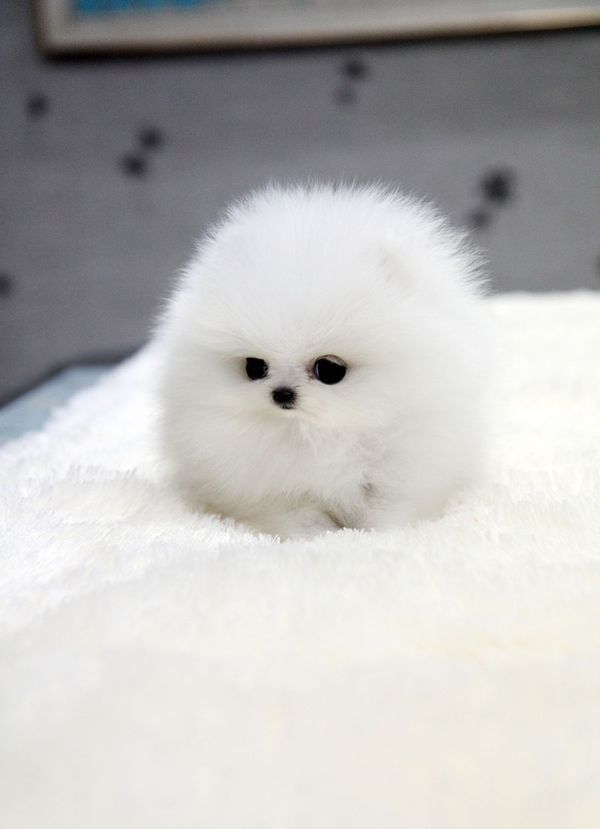dog: (143, 176, 515, 538)
